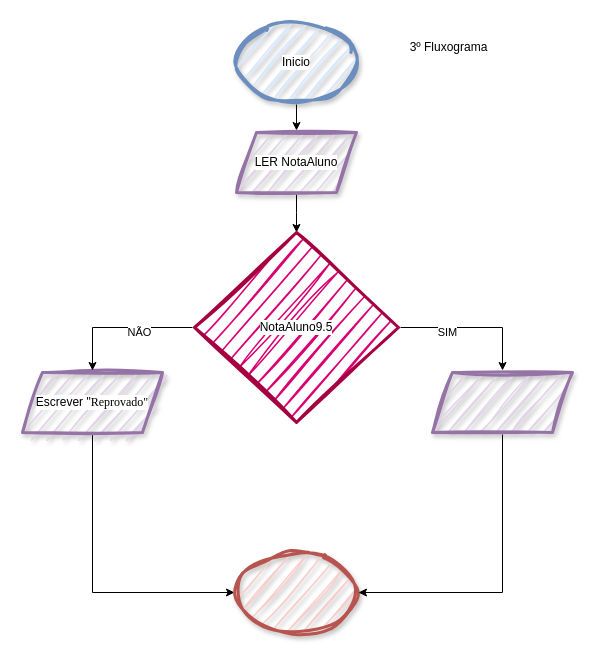
The diagram is 597 pixels wide and 658 high, and some of its shapes have lost their labels. The centre of each missing label's shape, as x and y in pixels:
Escrever " Aprovado": (x=503, y=403)
Fim: (x=297, y=593)
